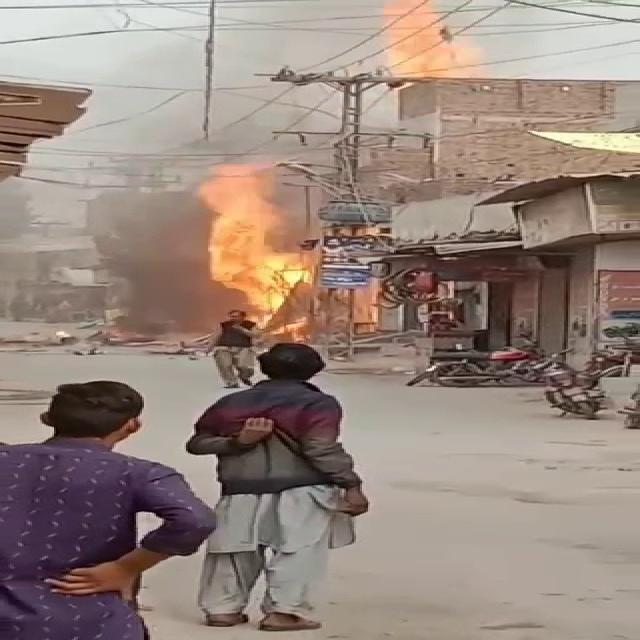Fire: (200, 179, 310, 312), (384, 0, 482, 81), (256, 276, 314, 348)
Smoke: (88, 195, 242, 333)
